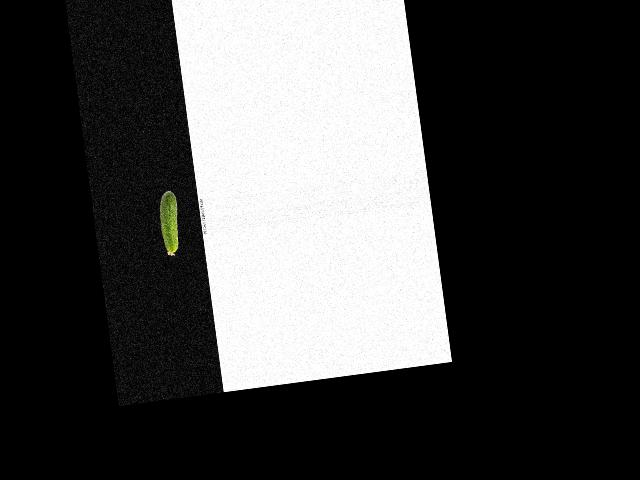cucumber: (156, 190, 183, 256)
